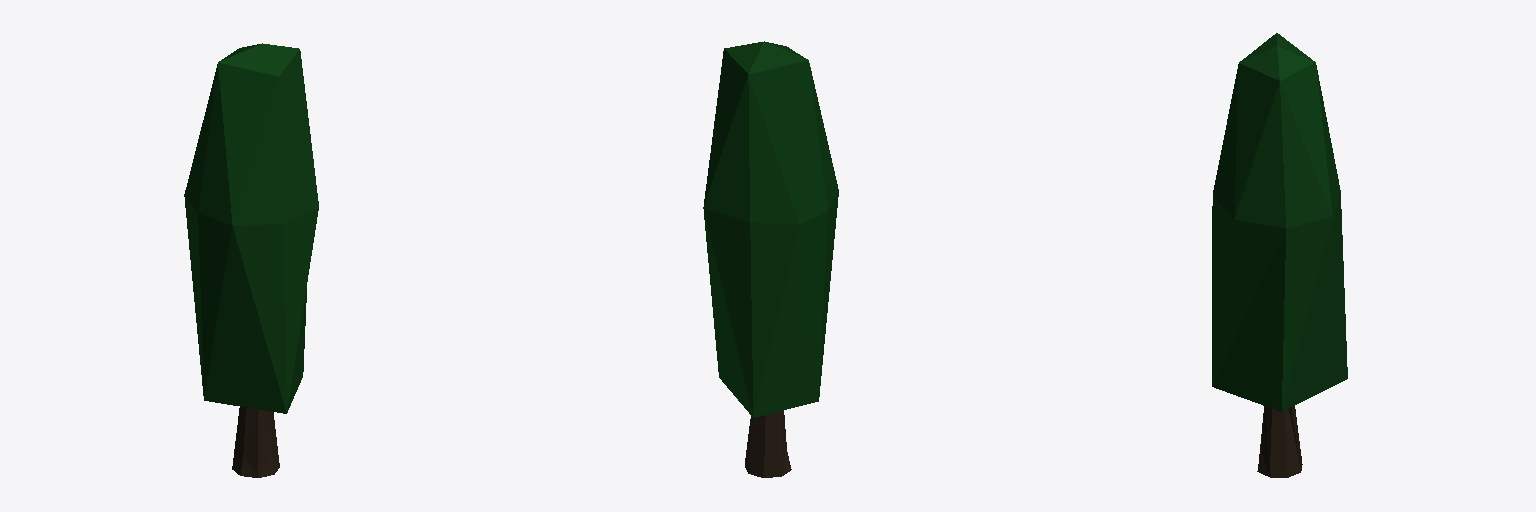
The model's file is normal_tree3.obj.
3 views of the same model, side by side, from view 1: azimuth 30°, elevation 25°; view 2: azimuth 150°, elevation 25°; view 3: azimuth 270°, elevation 25° (orthographic).
Visible parts, largest first — view 1: Object.2, Object.1; view 2: Object.2, Object.1; view 3: Object.2, Object.1.
Part boxes in pixels (x1,y1,x2,y2): Object.2: (184, 43, 318, 413); Object.1: (232, 407, 279, 477); Object.2: (703, 41, 838, 417); Object.1: (745, 411, 791, 477); Object.2: (1212, 33, 1347, 411); Object.1: (1257, 406, 1302, 477).
Size of the model in its own units: 1.16 by 4 by 1.16.